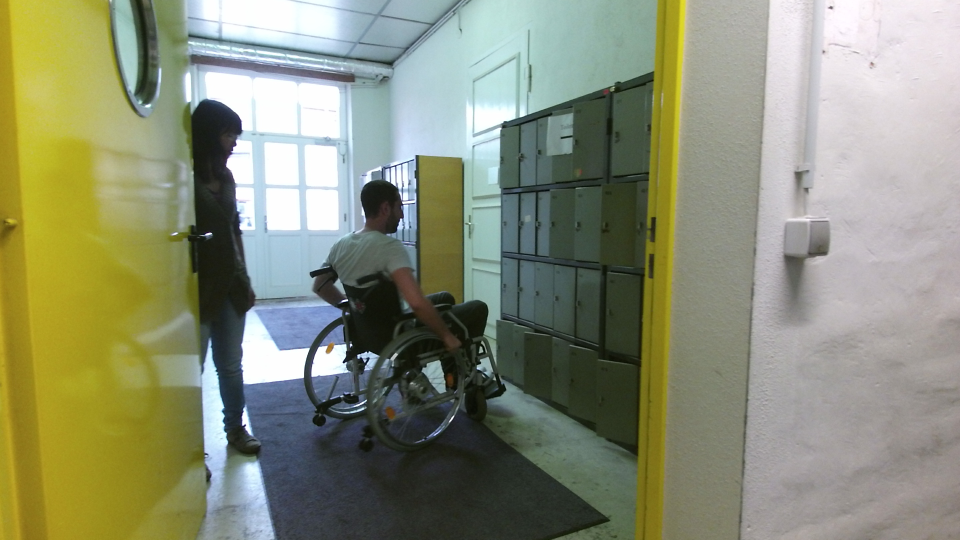wheelchair: (290, 173, 508, 456)
